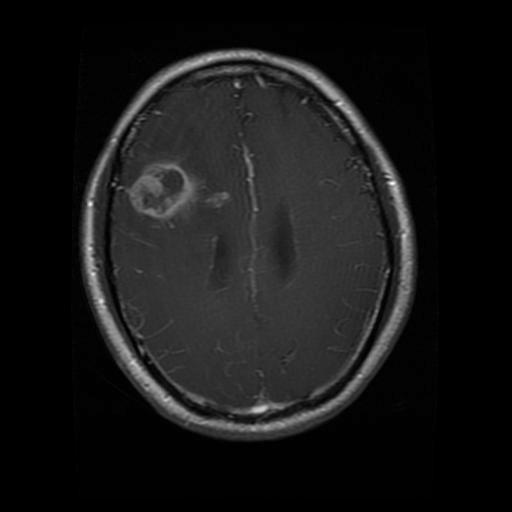Tumour-Glioma: (131, 153, 200, 235)
